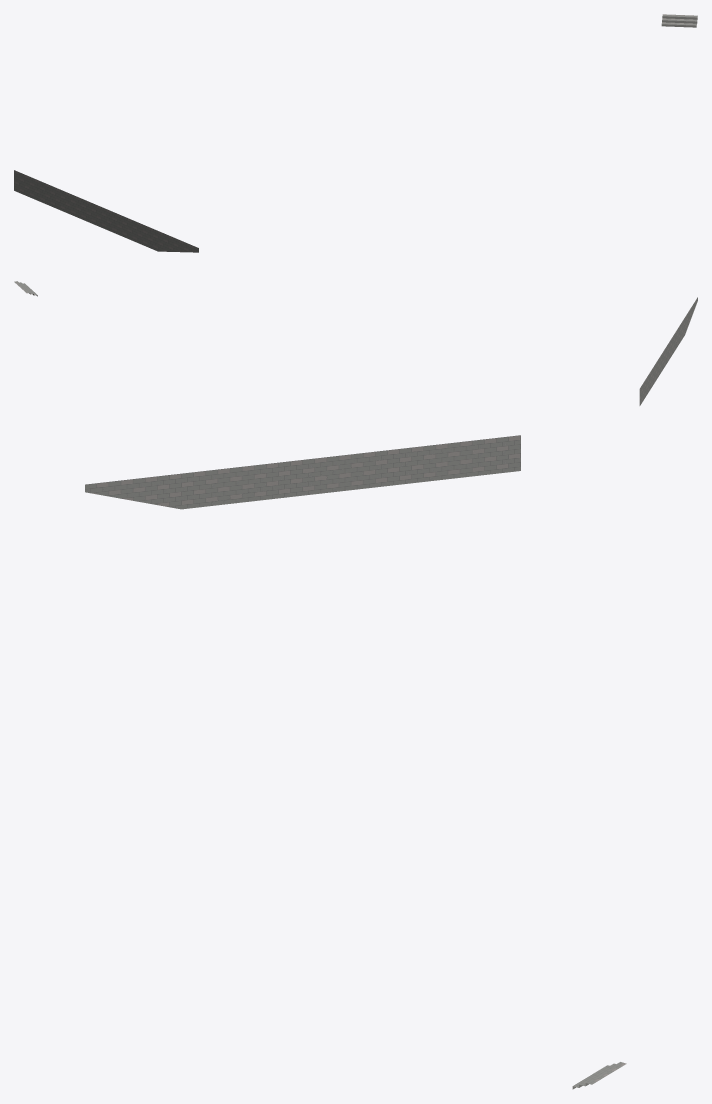
File: kd_connection_town-ground_surface_5_35.glb
3 renders of one model, top to bottom at view 1: azimuth 30°, elevation 25°; view 2: azimuth 150°, elevation 25°; view 3: azimuth 270°, elevation 25°, orthographic. The views are drawn at different scales.
Visible parts, largest first — view 1: kd_connection_town-ground_surface_5_35; view 2: kd_connection_town-ground_surface_5_35; view 3: kd_connection_town-ground_surface_5_35.
Part boxes in pixels (<box>): kd_connection_town-ground_surface_5_35: <box>14,14,697,252</box>; kd_connection_town-ground_surface_5_35: <box>14,281,697,405</box>; kd_connection_town-ground_surface_5_35: <box>85,435,626,1089</box>.
Bounding box in the file's own units: 71.1 × 3.75 × 27.45.
1 material, 1 textured.
